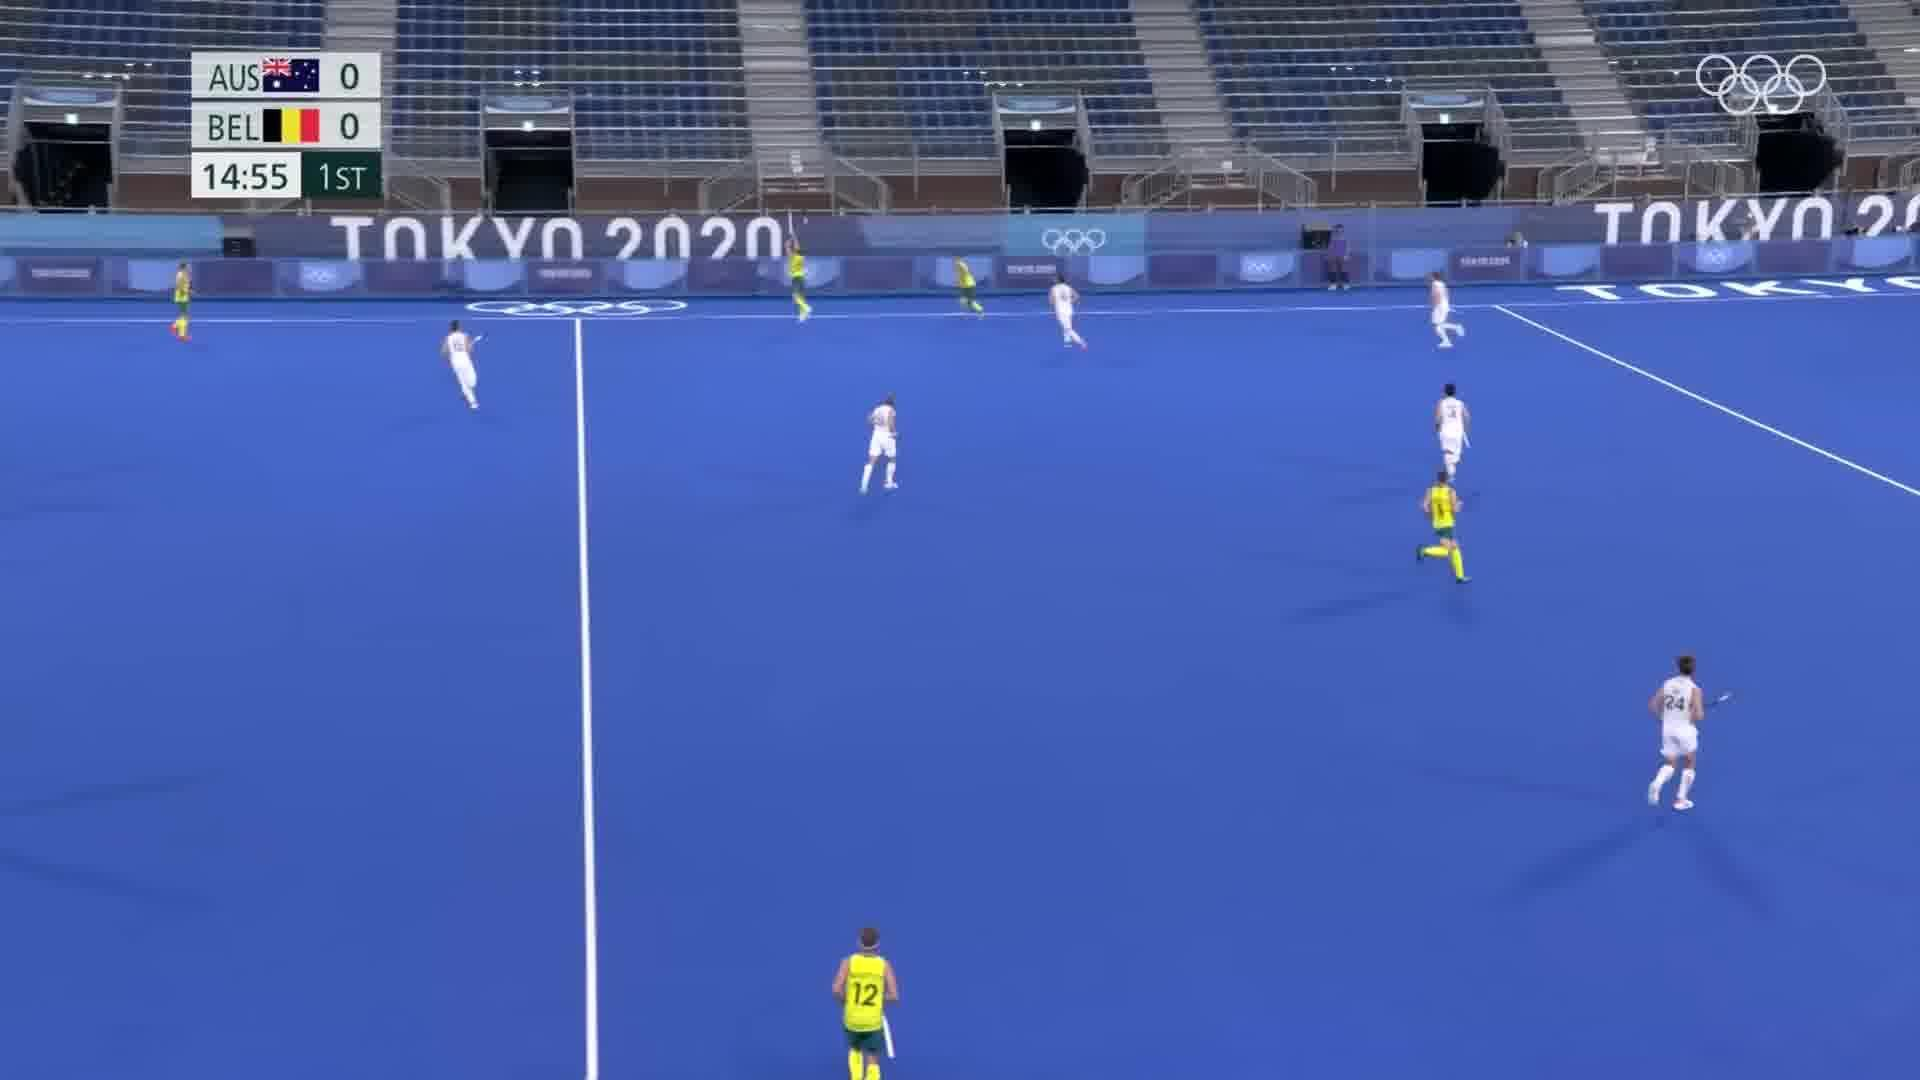ball: (800, 208, 819, 229)
